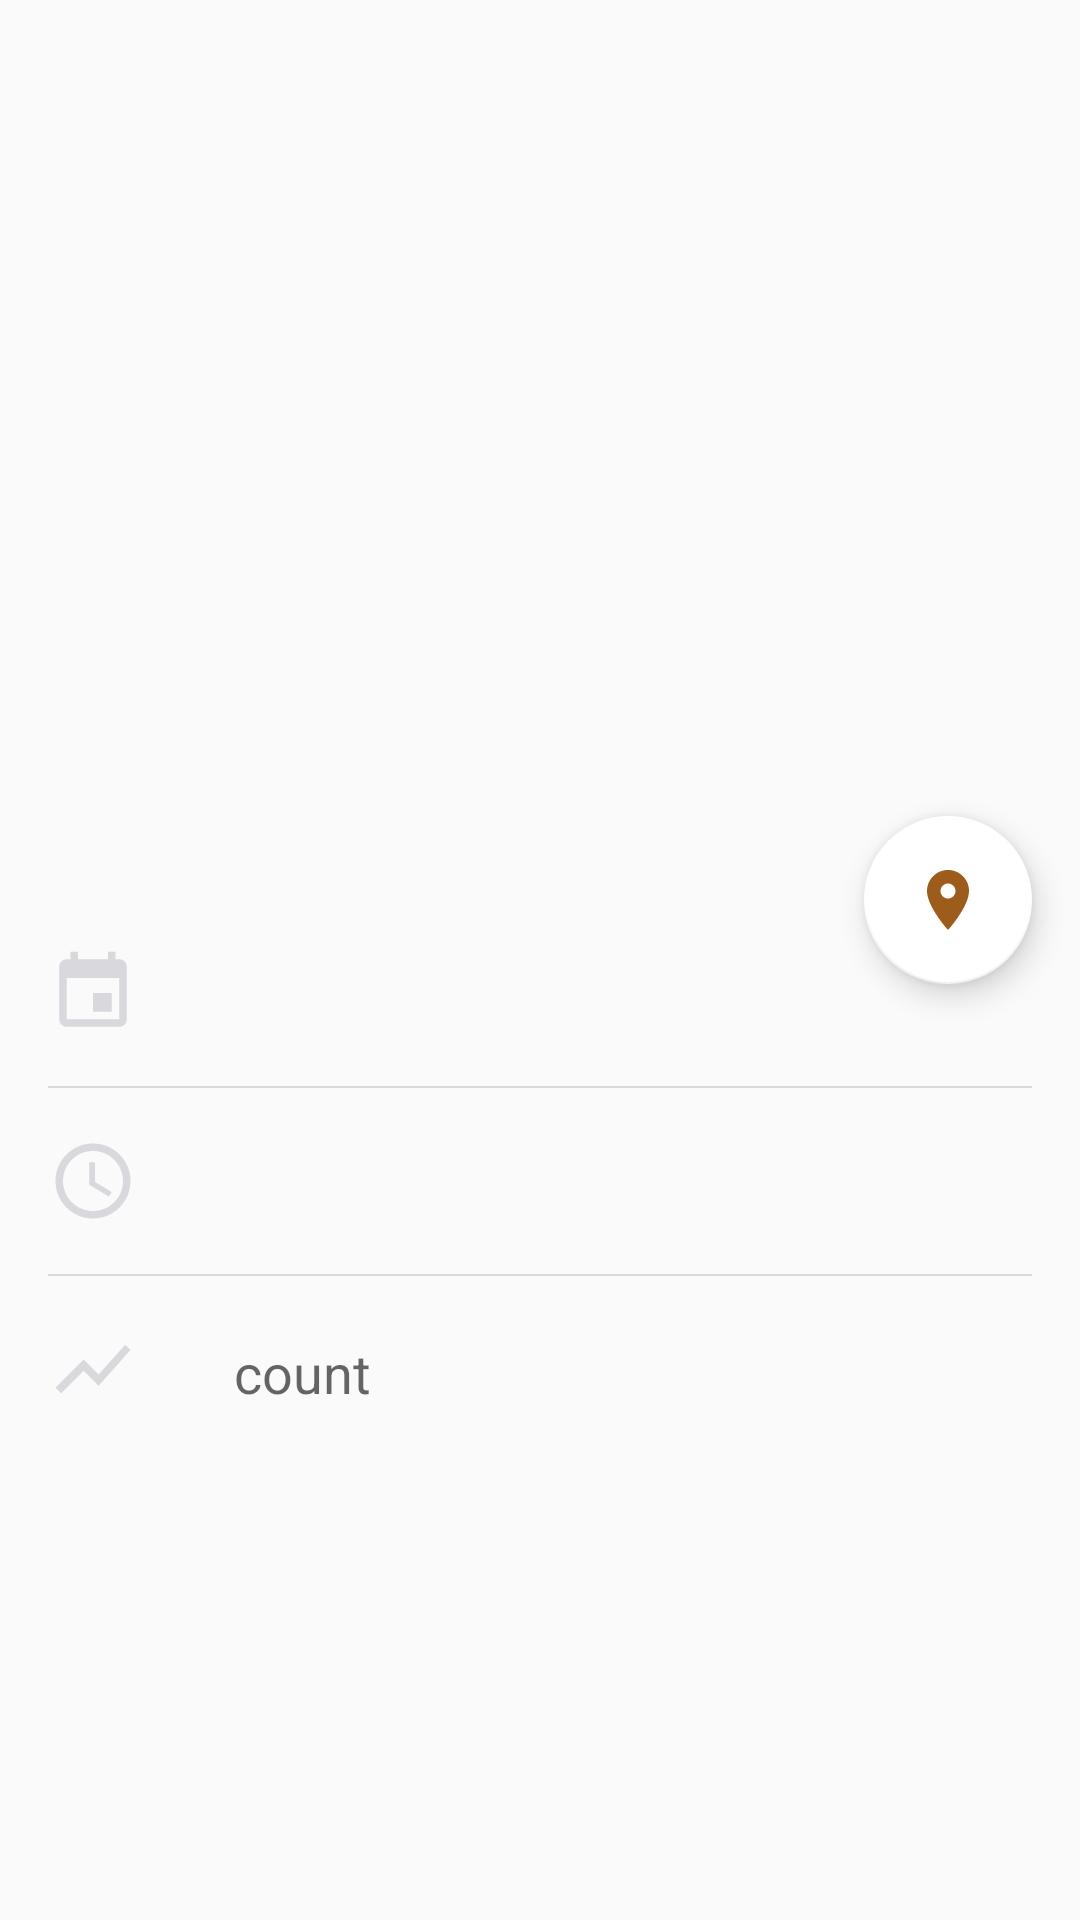

Icons on this 1080w x 1920h Android screen, each with the point to tap as (x=x, y=y):
access time: (x=93, y=1181)
event: (x=93, y=989)
show chart: (x=93, y=1369)
